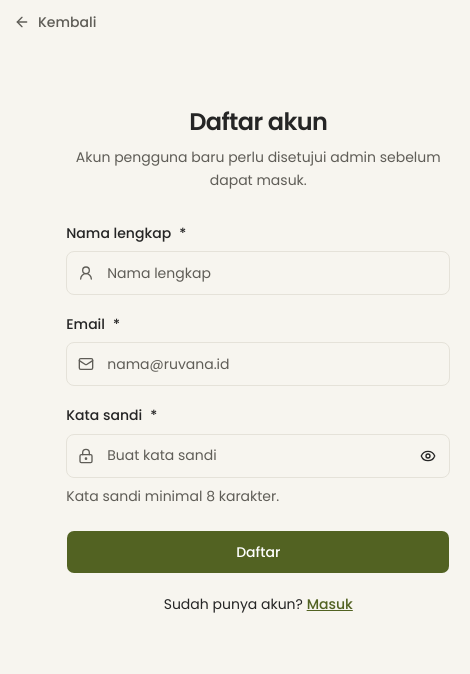
Test: RegisterForm › menampilkan konflik email pada field yang sesuai
Type "Siti Aminah" into the field labelled "Nama lengkap *".
click(258, 273); type("Siti Aminah")  # box [66, 251, 450, 295]
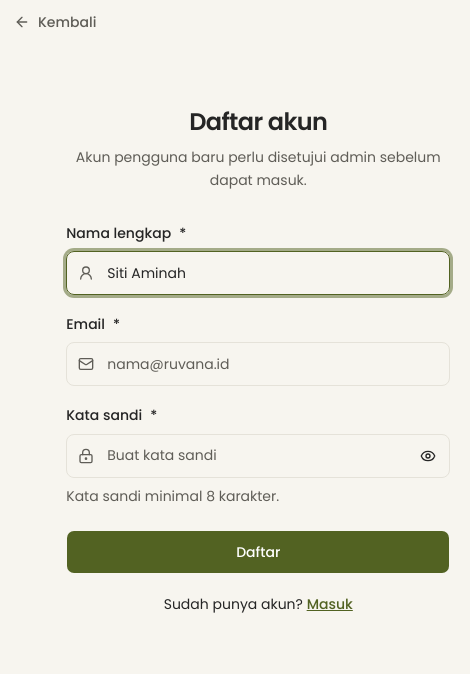
Type "SITI@KAMPUS.AC.ID" into the field labelled "Email *".
click(258, 364); type("SITI@KAMPUS.AC.ID")  # box [66, 342, 450, 386]
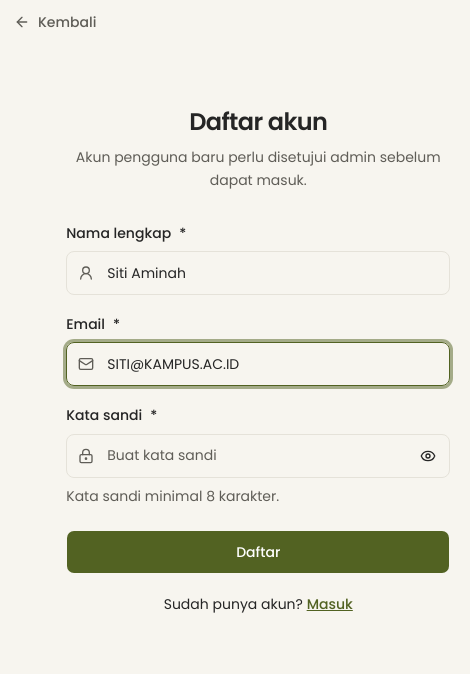
Type "rahasia123" into the password field labelled "Kata sandi *".
click(258, 456); type("rahasia123")  # box [66, 434, 450, 478]
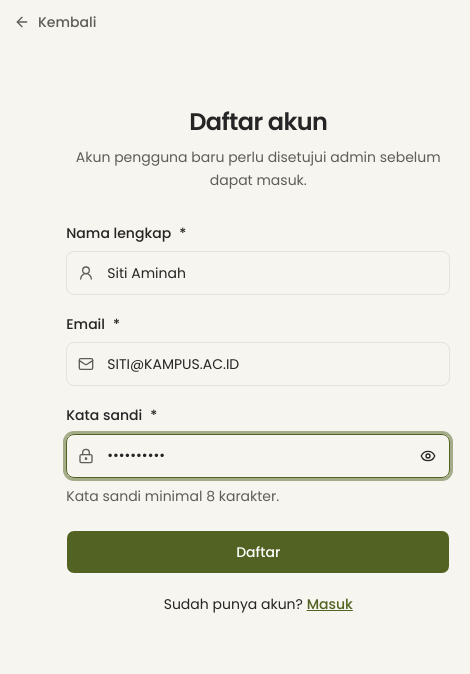
Click the button "Daftar".
click(258, 552)  # box [66, 530, 450, 574]
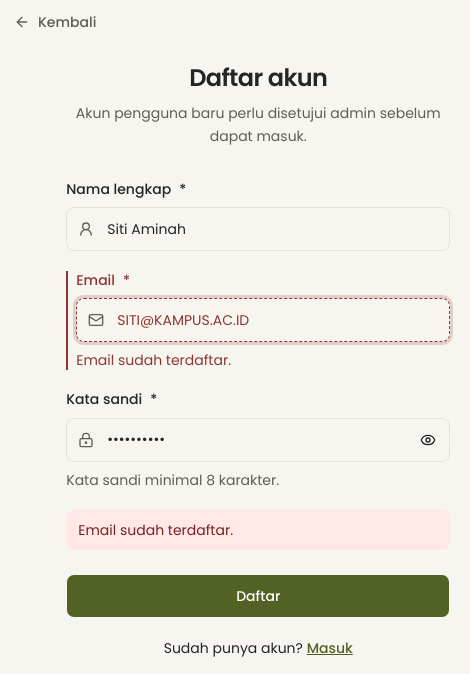
Result: the message with id "daftar-email-error" shows "Email sudah terdaftar" at [76, 350, 231, 370]
